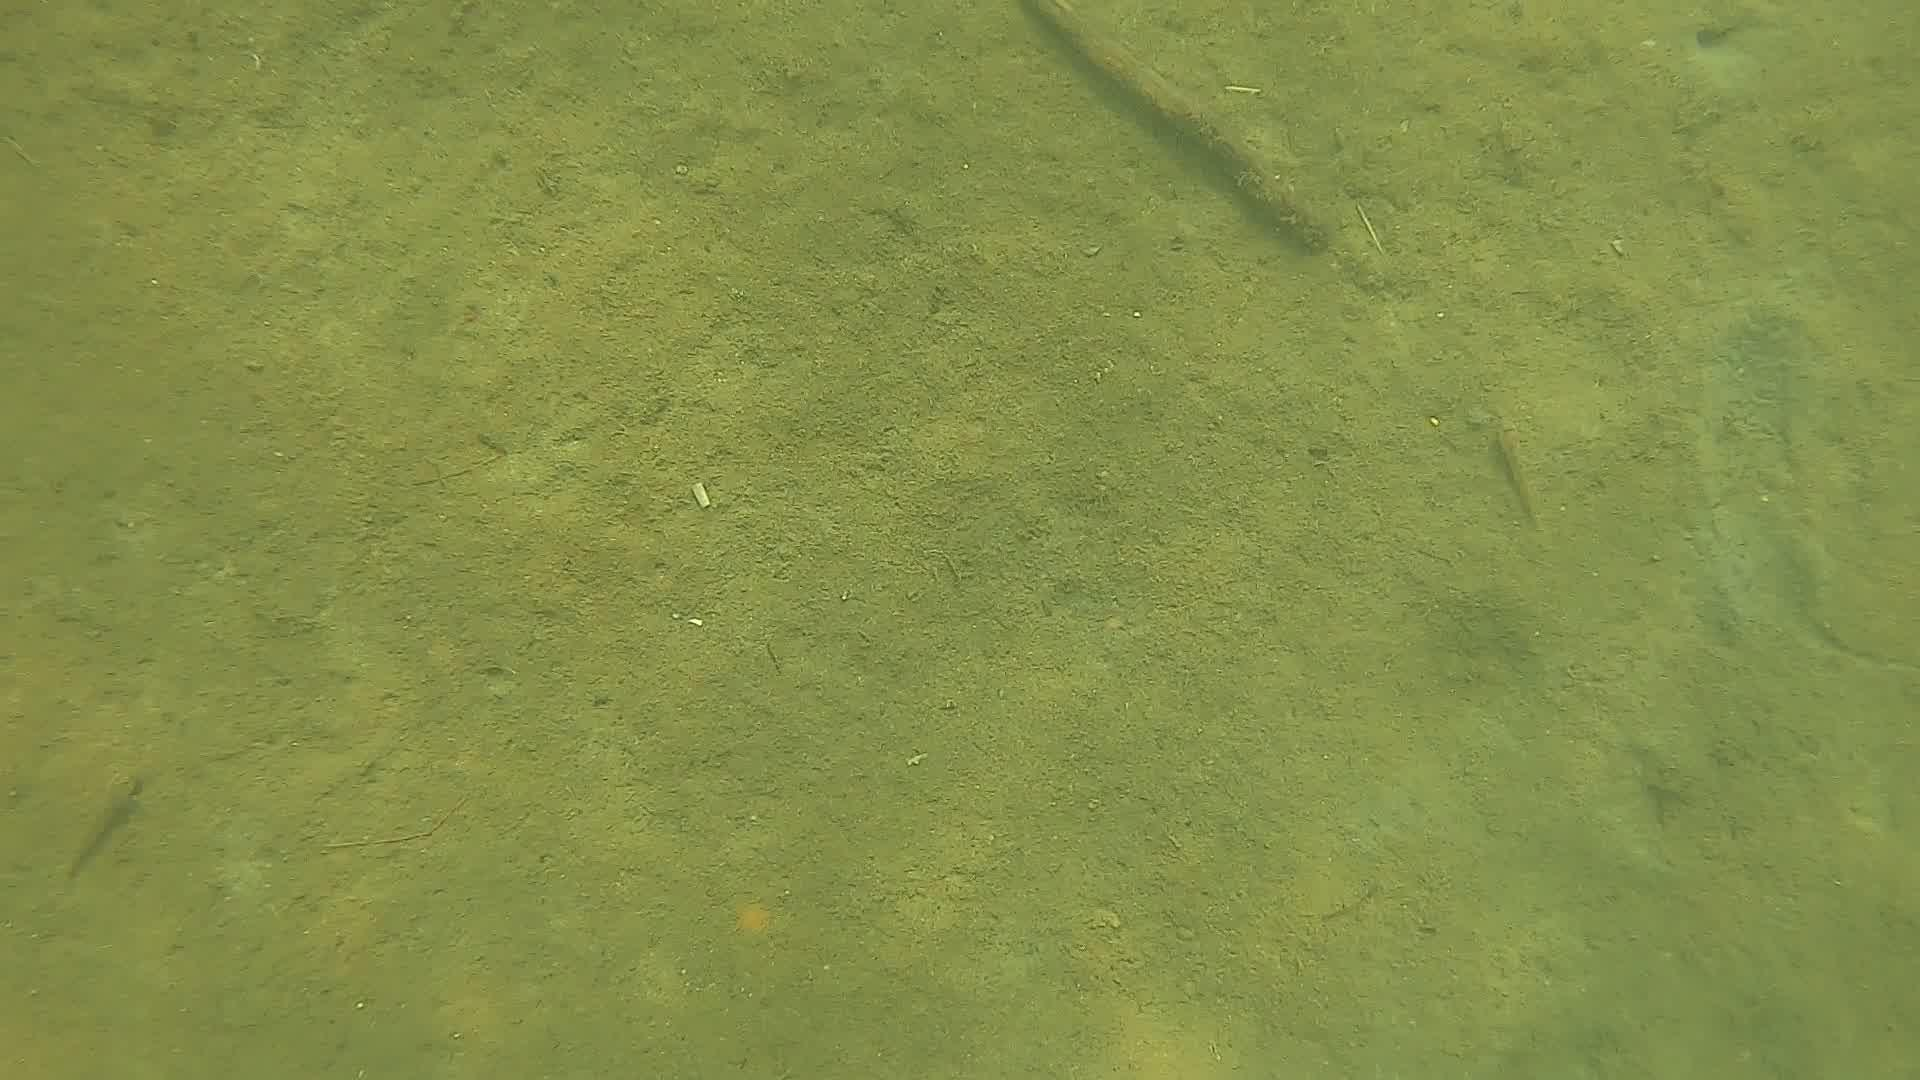wood: (1014, 0, 1331, 255)
